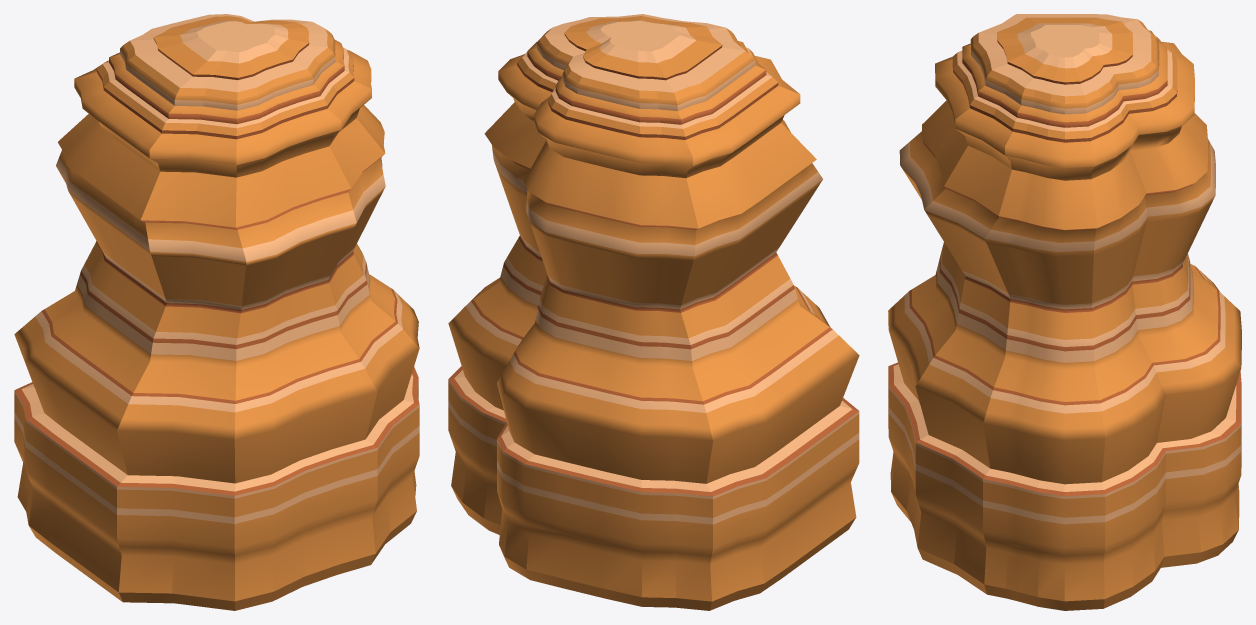
The model's file is CliffBig_2.fbx.
3 renders of one model, left to right at view 1: azimuth 30°, elevation 25°; view 2: azimuth 150°, elevation 25°; view 3: azimuth 270°, elevation 25°, orthographic.
Visible parts, largest first — view 1: pPlane2; view 2: pPlane2; view 3: pPlane2.
Boxes of the visible parts, bbox=[...] form: pPlane2: bbox=[14, 14, 419, 610]; pPlane2: bbox=[448, 14, 859, 610]; pPlane2: bbox=[888, 14, 1241, 610].
Bounding box in the file's own units: 16713 × 22637 × 14823.
